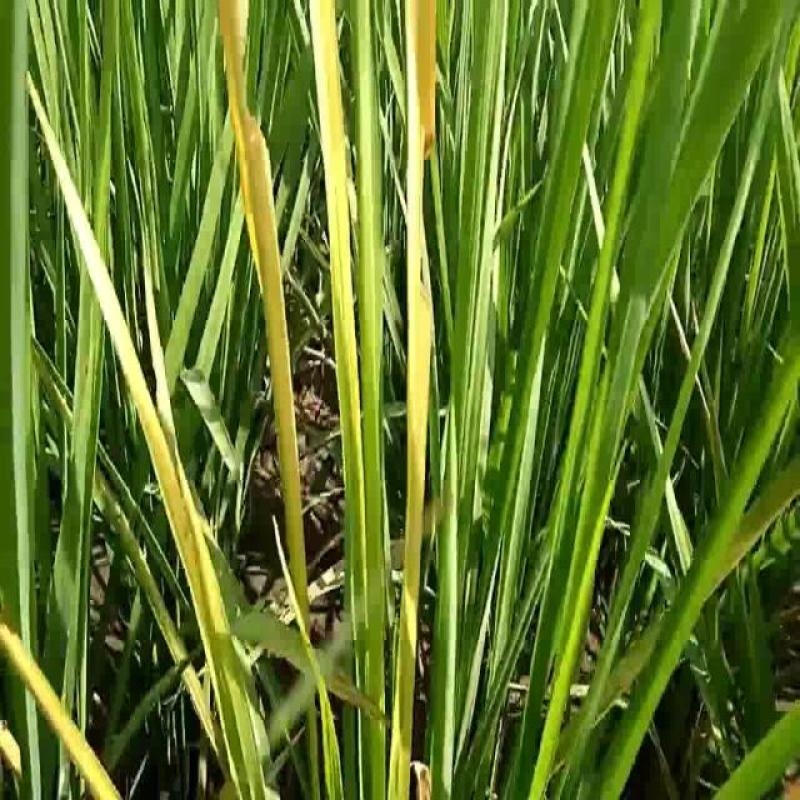Rice Tungro: (25, 68, 225, 668), (206, 1, 305, 535), (298, 1, 374, 489), (395, 4, 444, 558), (1, 610, 119, 800)
